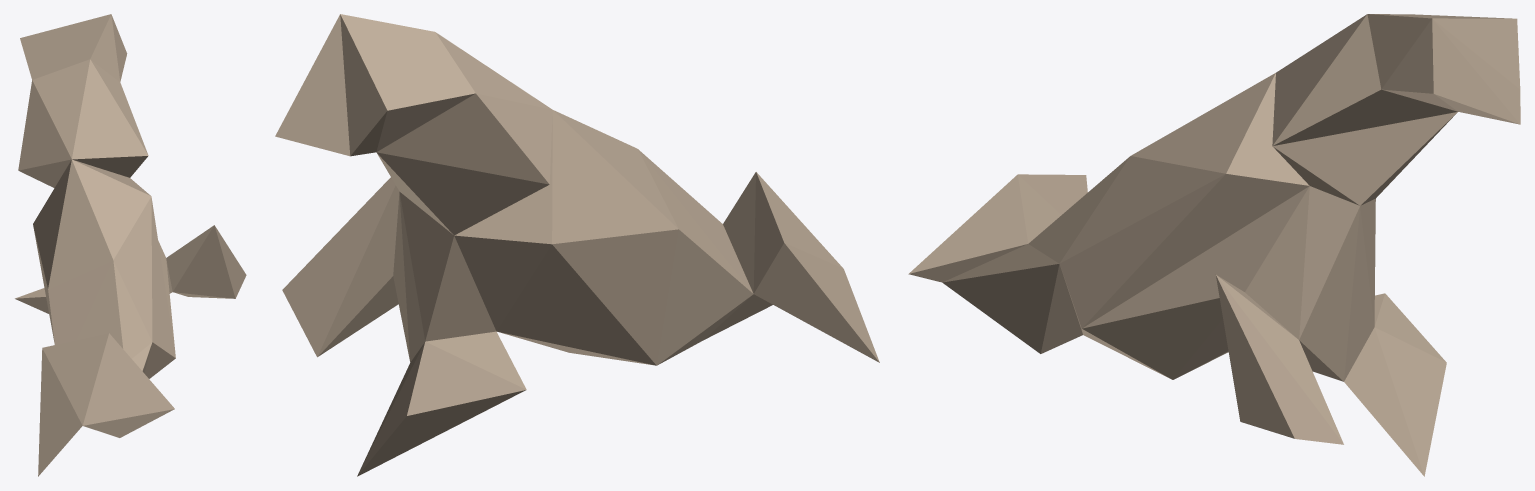
The picture shows the model from 3 angles, left to right: view 1: azimuth 30°, elevation 25°; view 2: azimuth 150°, elevation 25°; view 3: azimuth 270°, elevation 25°; orthographic projection. The views are drawn at different scales.
Parts seen in each view (by area): view 1: part0; view 2: part0; view 3: part0.
Part boxes in pixels (box(x1,y1,x2,y2)): part0: box(15, 14, 246, 476); part0: box(275, 14, 879, 476); part0: box(908, 14, 1520, 476).
Size of the model in its own units: 11.82 by 11.64 by 13.9.
